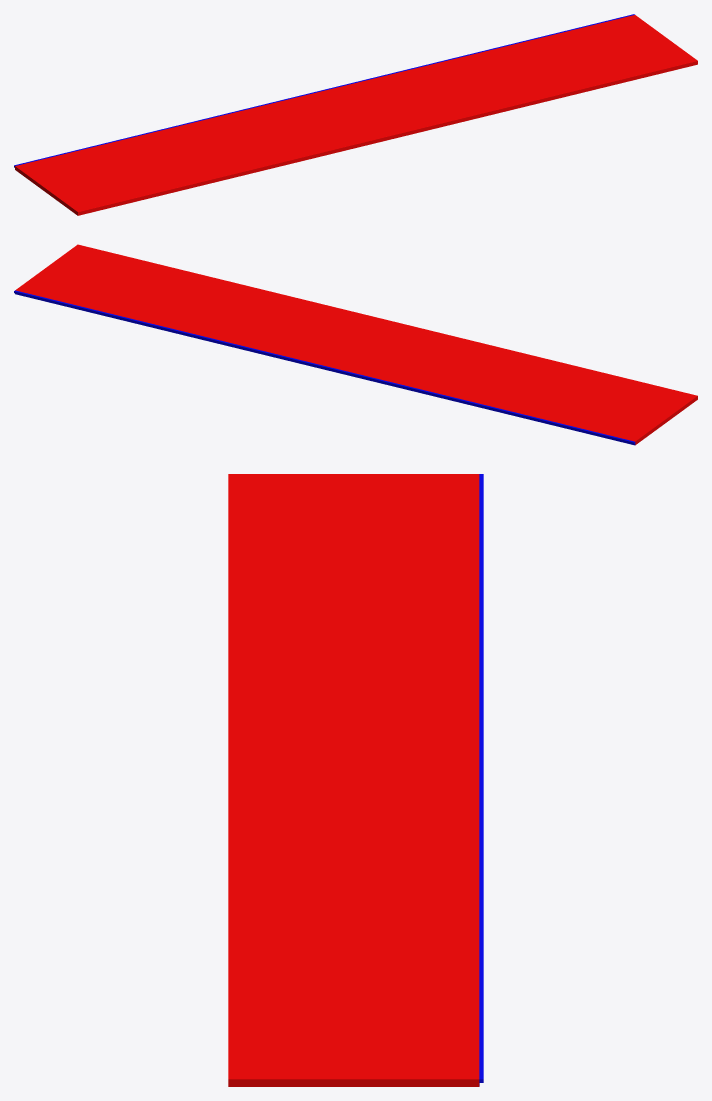
File: SM_Balcony.FBX
3 renders of one model, top to bottom at view 1: azimuth 30°, elevation 25°; view 2: azimuth 150°, elevation 25°; view 3: azimuth 270°, elevation 25°, orthographic. The views are drawn at different scales.
Visible parts, largest first — view 1: SM_Stairs_200L001; view 2: SM_Stairs_200L001; view 3: SM_Stairs_200L001.
Boxes of the visible parts, x1,y1,x2,y2 form: SM_Stairs_200L001: [14, 14, 697, 215]; SM_Stairs_200L001: [14, 244, 697, 445]; SM_Stairs_200L001: [228, 474, 483, 1086].
Bounding box in the file's own units: 1700 × 10 × 303.
